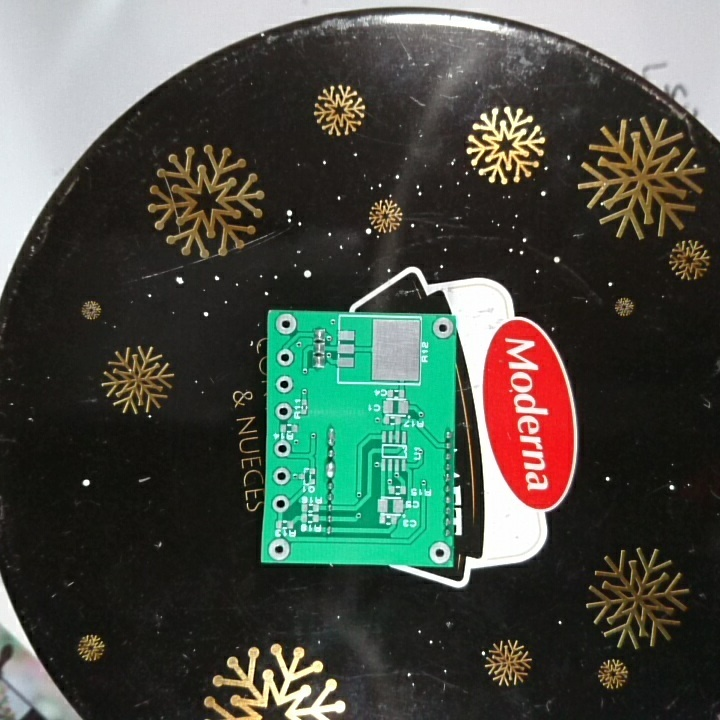F: (266, 536, 294, 561), (426, 540, 453, 565), (273, 312, 298, 338), (431, 317, 455, 342), (275, 347, 297, 369), (271, 438, 293, 460), (273, 401, 294, 422), (271, 493, 291, 515), (274, 374, 294, 395), (271, 466, 291, 486)
P: (325, 425, 338, 447), (323, 460, 336, 480)
